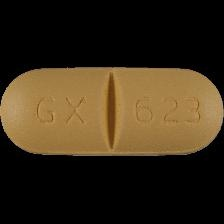49702-221: (0, 0, 224, 224)
